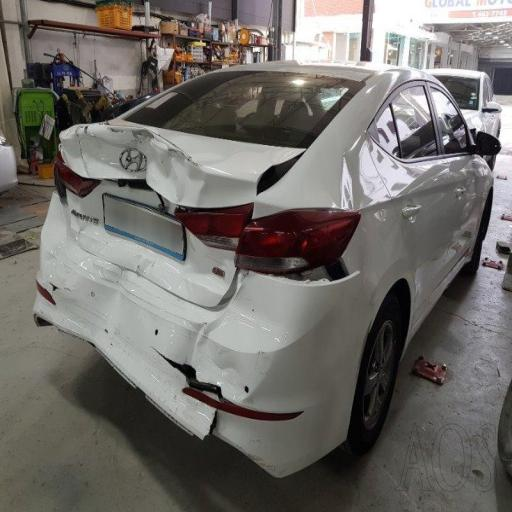broken: (154, 304, 312, 453)
dent: (58, 102, 264, 322)
